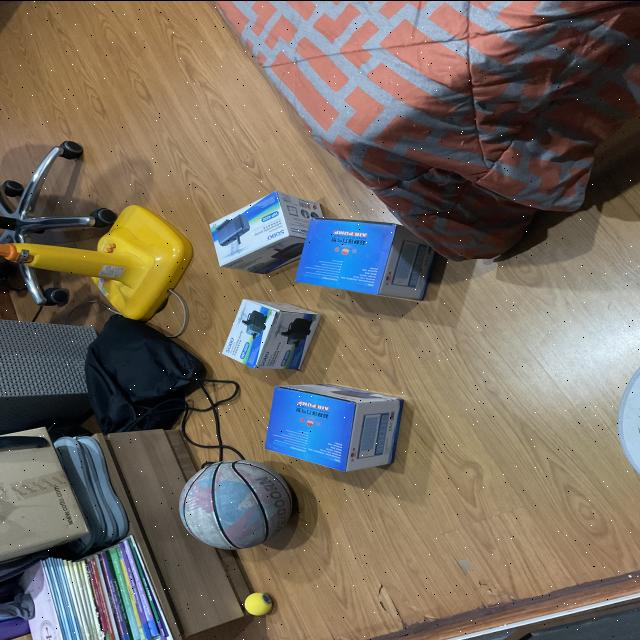SOBO_WP_4200: (192, 180, 324, 286), (215, 295, 331, 375)
YAMANO_LPP_20: (274, 205, 471, 308), (252, 375, 408, 475)
